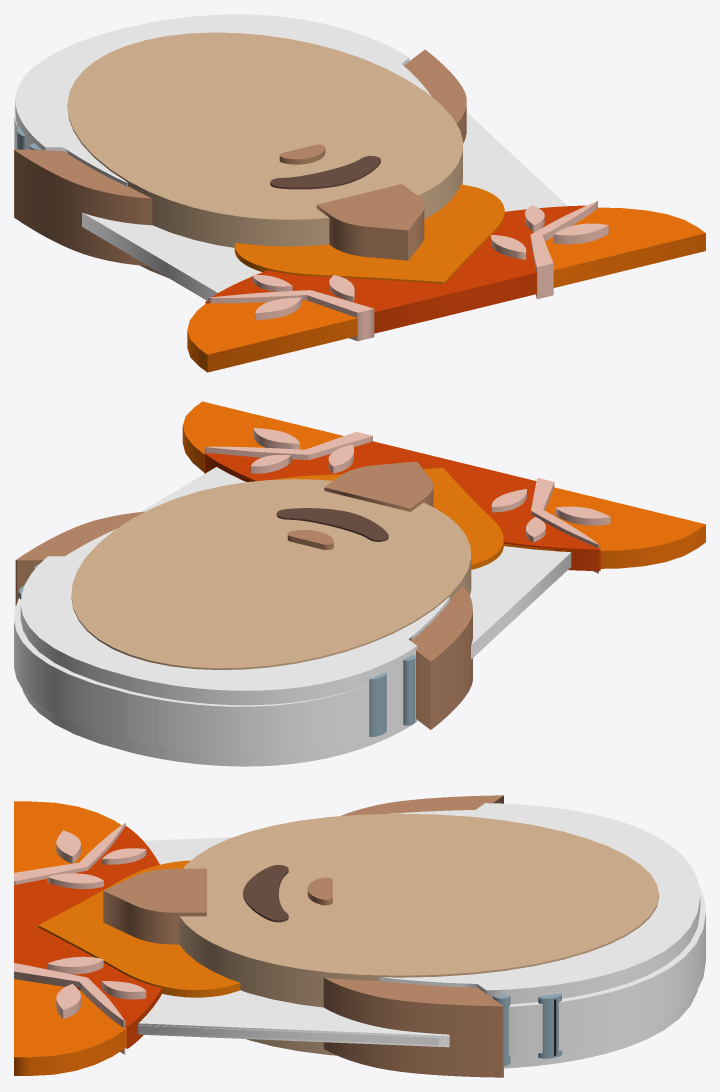
The model's file is emoji_u1f9dd_1f3fc.glb.
3 views of the same model, one above another, from view 1: azimuth 30°, elevation 25°; view 2: azimuth 150°, elevation 25°; view 3: azimuth 270°, elevation 25° (orthographic). The views are drawn at different scales.
Visible parts, largest first — view 1: emoji_u1f9dd_1f3fc; view 2: emoji_u1f9dd_1f3fc; view 3: emoji_u1f9dd_1f3fc.
Boxes of the visible parts, x1=… form: emoji_u1f9dd_1f3fc: x1=14, y1=14, x2=705, y2=372; emoji_u1f9dd_1f3fc: x1=14, y1=401, x2=705, y2=766; emoji_u1f9dd_1f3fc: x1=14, y1=795, x2=705, y2=1077.
Bounding box in the file's own units: 0.0292 × 0.005 × 0.0334.
